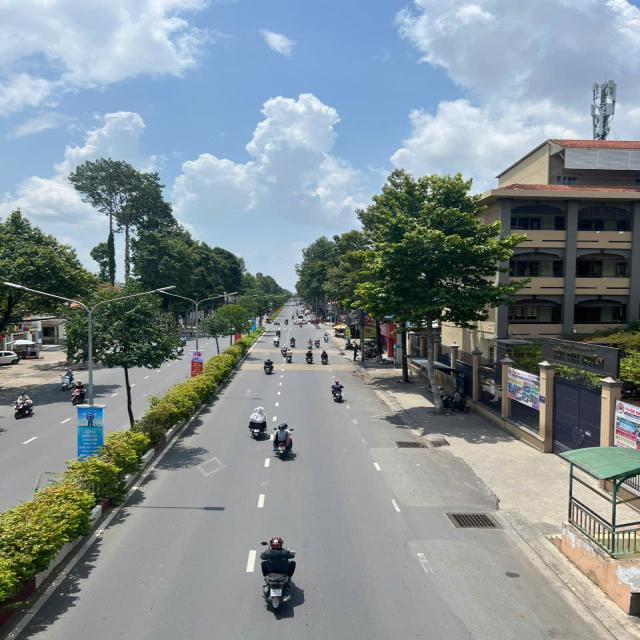car: (292, 317, 308, 327)
motobyte: (253, 532, 304, 616), (272, 423, 296, 462), (10, 390, 36, 422), (247, 403, 267, 443), (328, 378, 348, 405), (69, 378, 88, 406), (58, 366, 77, 392), (261, 357, 276, 378), (320, 349, 330, 366), (304, 349, 314, 365), (283, 348, 292, 364), (305, 336, 314, 350), (314, 336, 322, 349), (289, 336, 297, 348), (273, 334, 280, 346), (323, 332, 330, 343)
